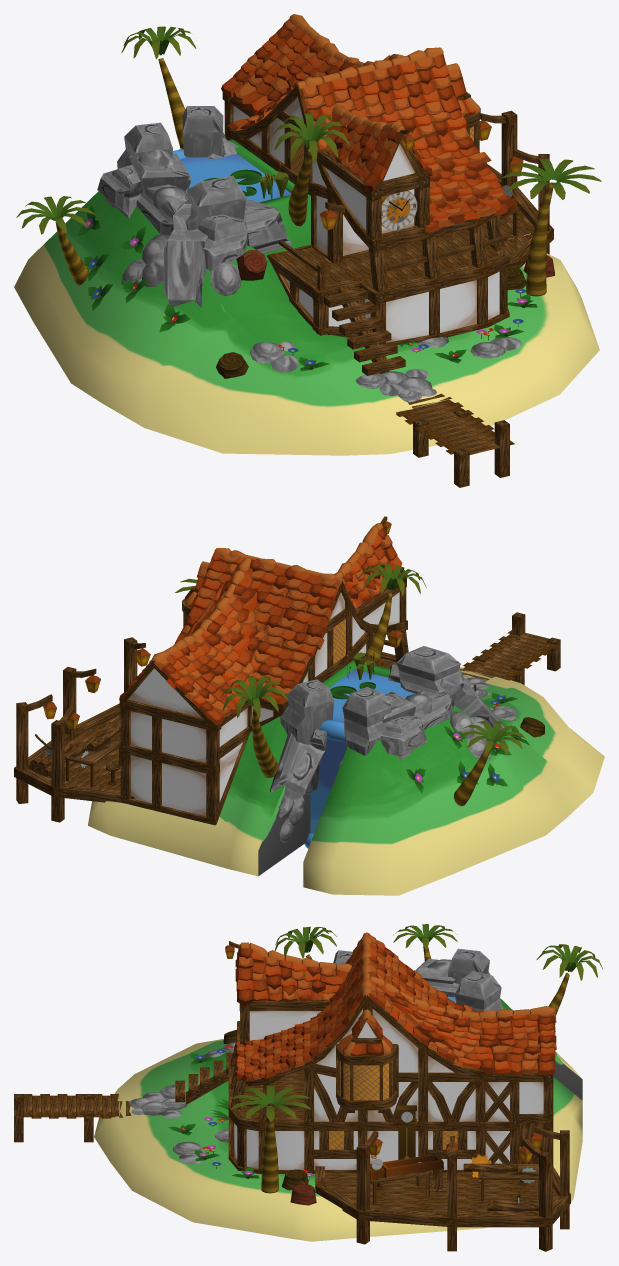
File: Stylized_Island.fbx
3 views of the same model, one above another, from view 1: azimuth 30°, elevation 25°; view 2: azimuth 150°, elevation 25°; view 3: azimuth 270°, elevation 25° (orthographic). The views are drawn at different scales.
Visible parts, largest first — view 1: Box001, Plane005; view 2: Box001, Plane005; view 3: Box001, Plane005.
Part boxes in pixels (bbox=[...]): Box001: bbox=[97, 14, 553, 487]; Plane005: bbox=[14, 26, 601, 455]; Box001: bbox=[14, 516, 560, 843]; Plane005: bbox=[35, 564, 604, 895]; Box001: bbox=[14, 932, 570, 1251]; Plane005: bbox=[94, 924, 602, 1241].
Size of the model in its own units: 1825 by 905 by 2141.
Materials: 3 (3 with a texture image).
